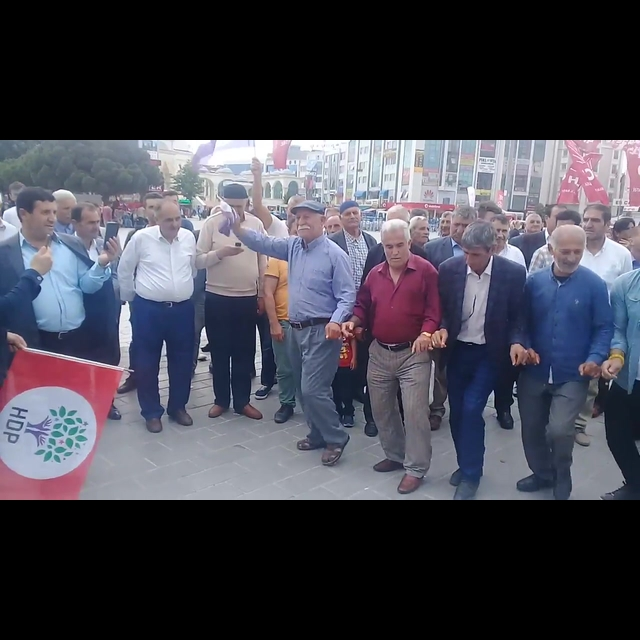HDP: (24, 405, 88, 469)
